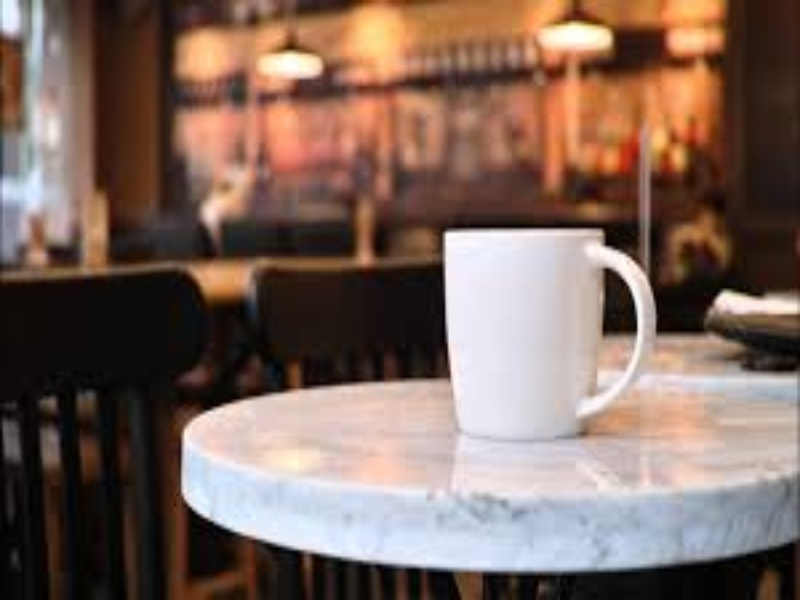cup: (415, 194, 666, 453)
